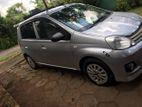car: (13, 3, 142, 87)
